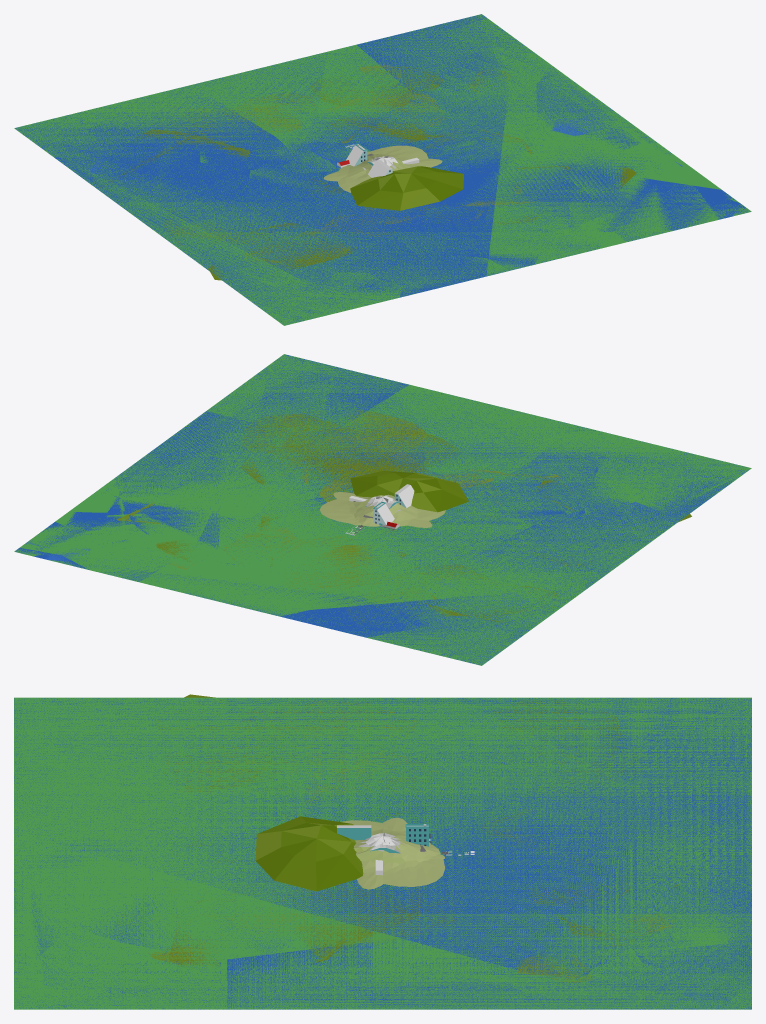
The model's file is north_cape.glb.
3 views of the same model, one above another, from view 1: azimuth 30°, elevation 25°; view 2: azimuth 150°, elevation 25°; view 3: azimuth 270°, elevation 25° (orthographic). The views are drawn at different scales.
Visible parts, largest first — view 1: north_cape_135_lod0, north_cape_128_lod0, north_cape_000_lod0, north_cape_137_lod0, north_cape_131_lod0, north_cape_153_lod0, north_cape_156_lod0, north_cape_129_lod0, north_cape_138_lod0, north_cape_144_lod0, north_cape_139_lod0, north_cape_133_lod0 (+20 smaller); view 2: north_cape_130_lod0, north_cape_133_lod0, north_cape_000_lod0, north_cape_128_lod0, north_cape_131_lod0, north_cape_132_lod0, north_cape_150_lod0, north_cape_134_lod0, north_cape_141_lod0, north_cape_138_lod0, north_cape_137_lod0, north_cape_153_lod0 (+21 smaller); view 3: north_cape_000_lod0, north_cape_128_lod0, north_cape_135_lod0, north_cape_130_lod0, north_cape_131_lod0, north_cape_129_lod0, north_cape_141_lod0, north_cape_140_lod0, north_cape_070_lod0, north_cape_107_lod0_forest, north_cape_133_lod0, north_cape_138_lod0 (+27 smaller).
Part boxes in pixels (bbox=[...]): north_cape_135_lod0: bbox=[20, 15, 747, 321]; north_cape_128_lod0: bbox=[17, 14, 751, 325]; north_cape_000_lod0: bbox=[14, 14, 751, 325]; north_cape_137_lod0: bbox=[21, 18, 721, 317]; north_cape_131_lod0: bbox=[16, 15, 746, 325]; north_cape_153_lod0: bbox=[42, 88, 731, 320]; north_cape_156_lod0: bbox=[33, 28, 747, 309]; north_cape_129_lod0: bbox=[15, 15, 748, 325]; north_cape_138_lod0: bbox=[23, 15, 749, 322]; north_cape_144_lod0: bbox=[84, 17, 744, 312]; north_cape_139_lod0: bbox=[55, 19, 749, 322]; north_cape_133_lod0: bbox=[23, 14, 746, 324]; north_cape_130_lod0: bbox=[17, 355, 750, 664]; north_cape_133_lod0: bbox=[16, 356, 749, 661]; north_cape_000_lod0: bbox=[15, 354, 750, 665]; north_cape_128_lod0: bbox=[16, 355, 750, 665]; north_cape_131_lod0: bbox=[163, 355, 747, 664]; north_cape_132_lod0: bbox=[103, 355, 751, 661]; north_cape_150_lod0: bbox=[21, 366, 713, 656]; north_cape_134_lod0: bbox=[127, 356, 743, 662]; north_cape_141_lod0: bbox=[121, 355, 743, 649]; north_cape_138_lod0: bbox=[26, 363, 718, 653]; north_cape_137_lod0: bbox=[18, 360, 743, 663]; north_cape_153_lod0: bbox=[224, 361, 737, 636]; north_cape_000_lod0: bbox=[14, 697, 751, 1009]; north_cape_128_lod0: bbox=[14, 697, 751, 1009]; north_cape_135_lod0: bbox=[14, 699, 749, 1007]; north_cape_130_lod0: bbox=[14, 697, 751, 1009]; north_cape_131_lod0: bbox=[14, 698, 751, 1009]; north_cape_129_lod0: bbox=[14, 698, 751, 1009]; north_cape_141_lod0: bbox=[15, 698, 751, 1006]; north_cape_140_lod0: bbox=[14, 700, 751, 1005]; north_cape_070_lod0: bbox=[255, 816, 382, 891]; north_cape_107_lod0_forest: bbox=[163, 701, 710, 968]; north_cape_133_lod0: bbox=[14, 698, 751, 1009]; north_cape_138_lod0: bbox=[20, 698, 751, 1009].
Size of what is drawn, in the model's own units: 4139 by 138 by 4096.
